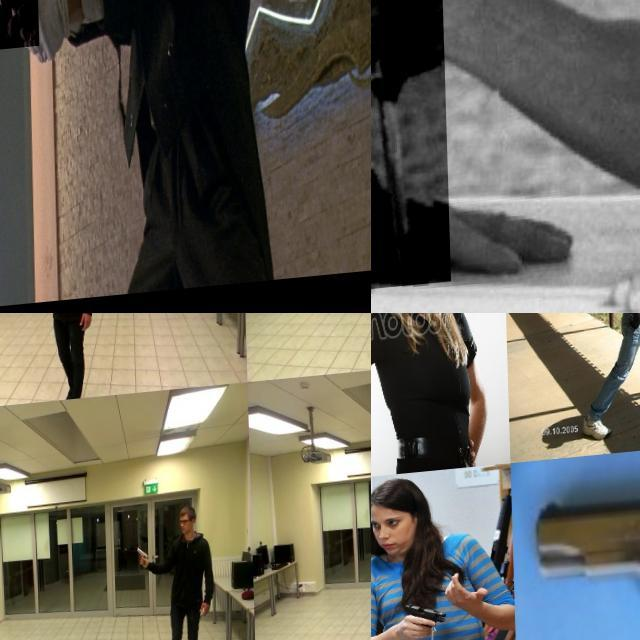-: (371, 0, 447, 297)
gun-knife-thesis - v11 Yolov5 augmented: (526, 479, 640, 640), (0, 0, 47, 57), (400, 604, 442, 639), (371, 313, 396, 362), (126, 543, 146, 571), (0, 313, 11, 328)
